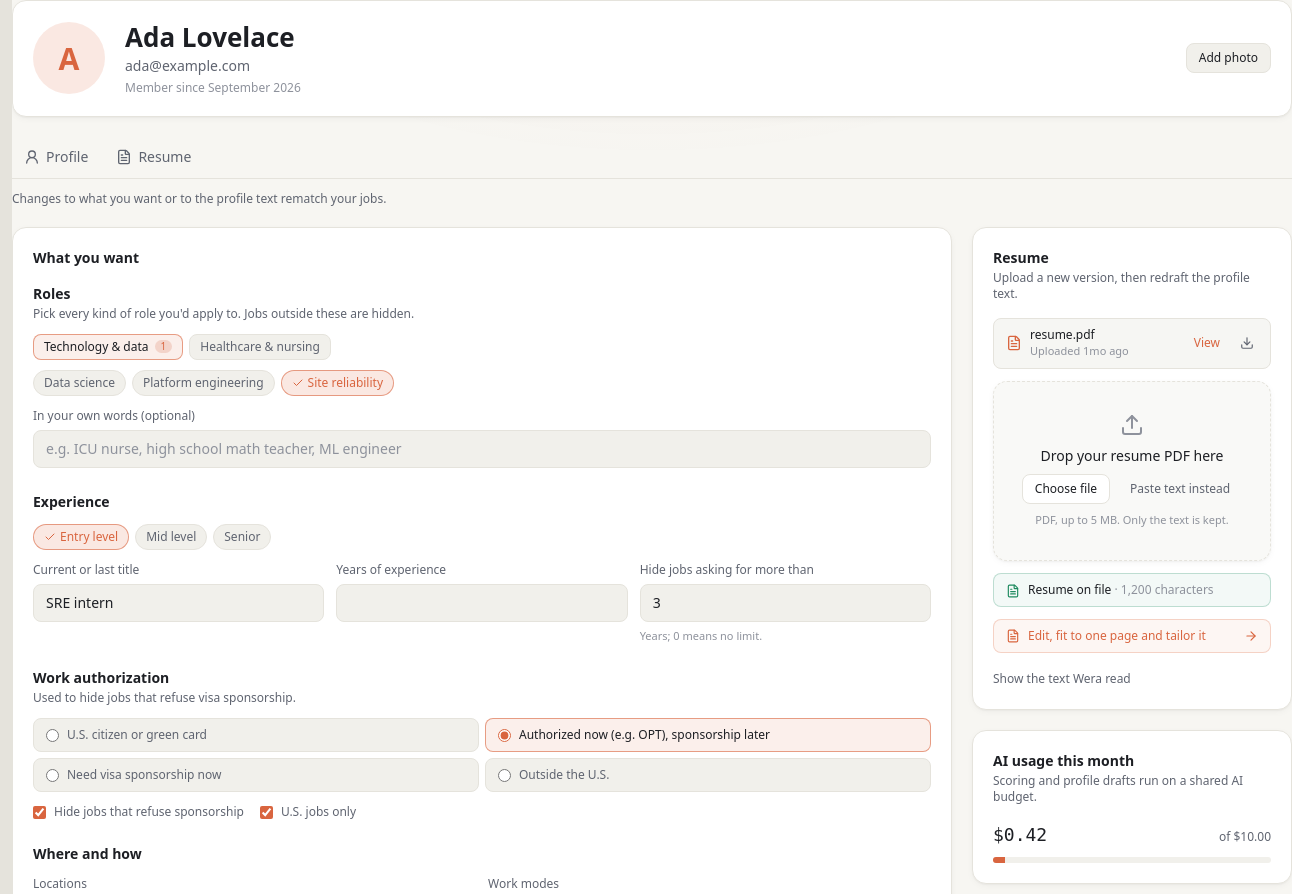
Test: other pages › Profile shows the photo controls and the resume
This screenshot has width=1292, height=894.
Expected: the heading "Ada Lovelace" is shown, [125, 19, 295, 55]
Expected: the button "Add photo" is shown, [1186, 43, 1271, 73]
Click the button "Show the text Wera read". click: [1062, 678]
box: [993, 670, 1131, 686]
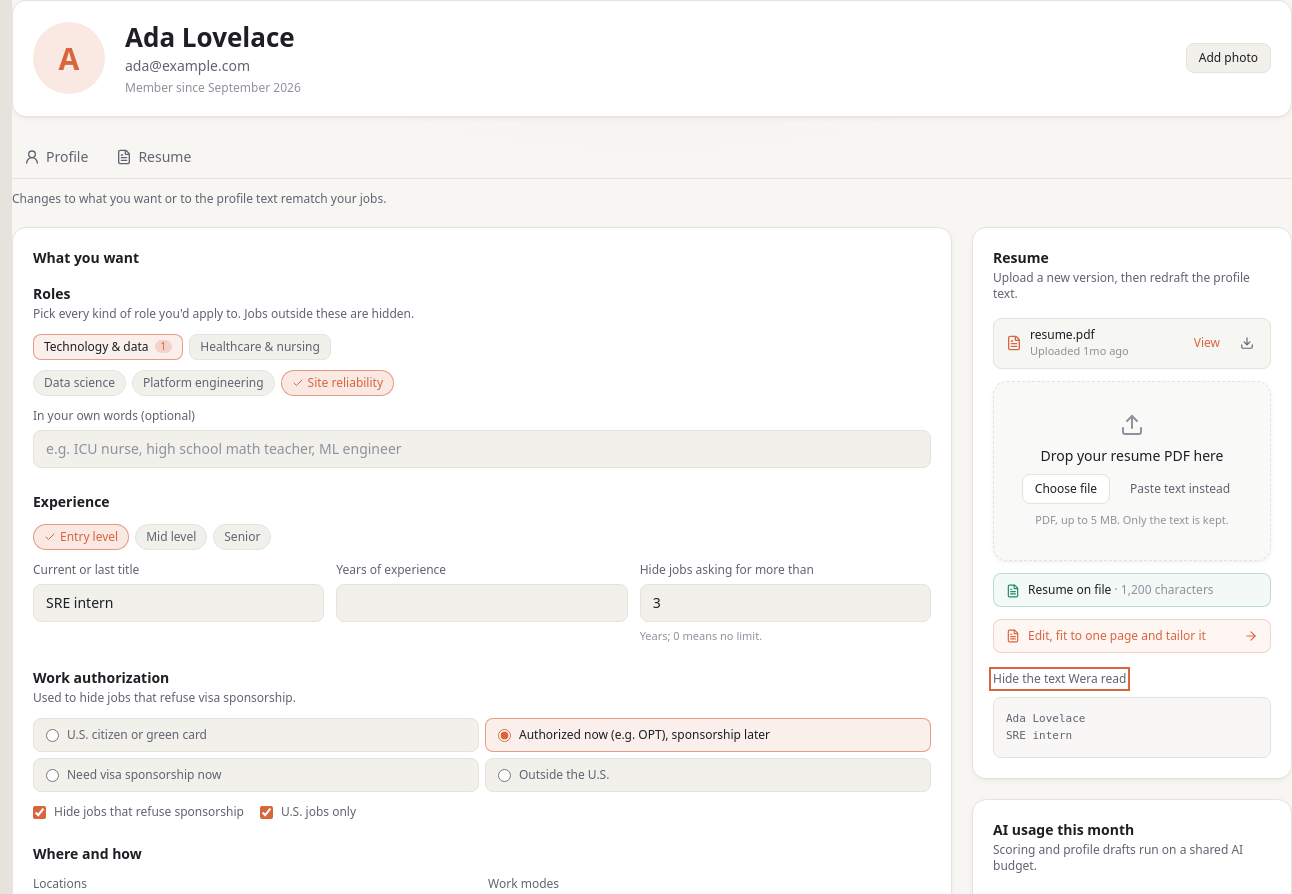
Now the text "Ada Lovelace SRE intern" is shown, box [1006, 712, 1086, 742]
